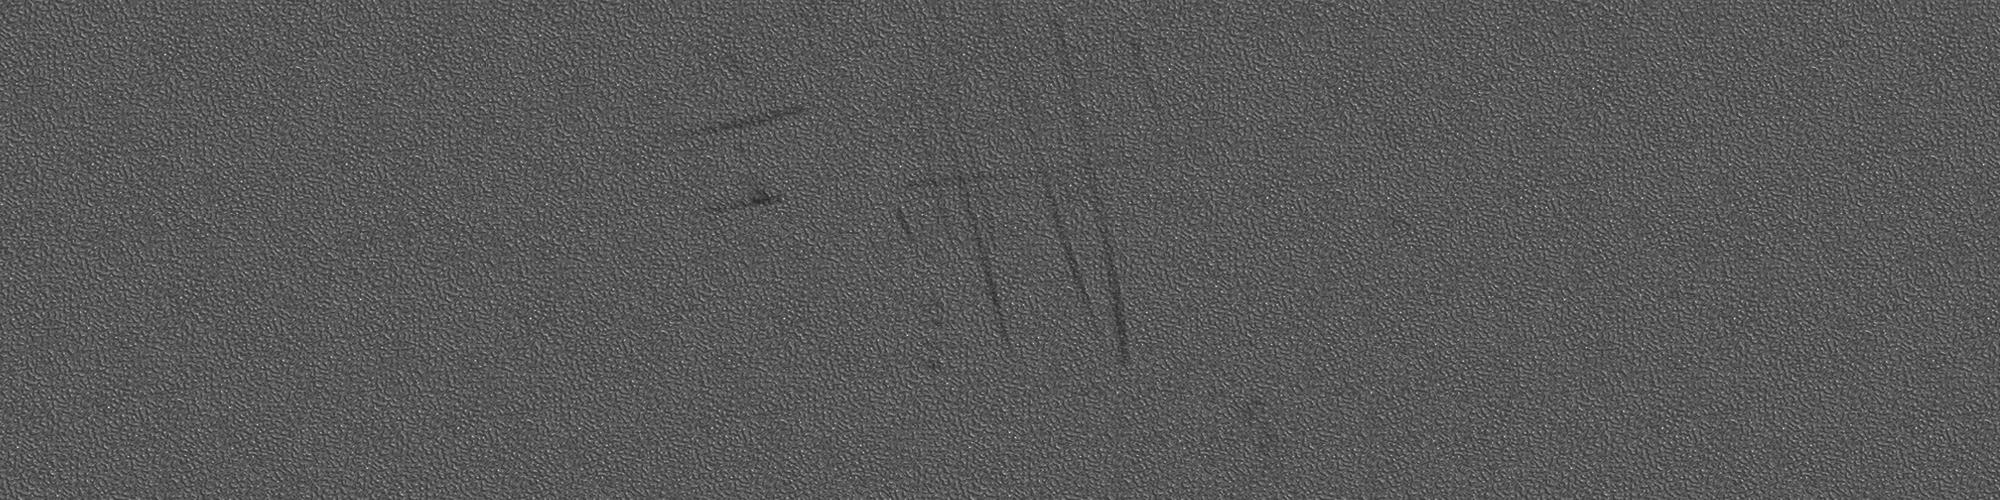Scratches: (1014, 11, 1135, 374), (929, 97, 1014, 365), (673, 96, 811, 232), (892, 151, 1128, 195), (1202, 386, 1284, 469), (1124, 34, 1167, 131), (1376, 203, 1431, 272), (920, 283, 944, 395), (886, 200, 915, 251)
